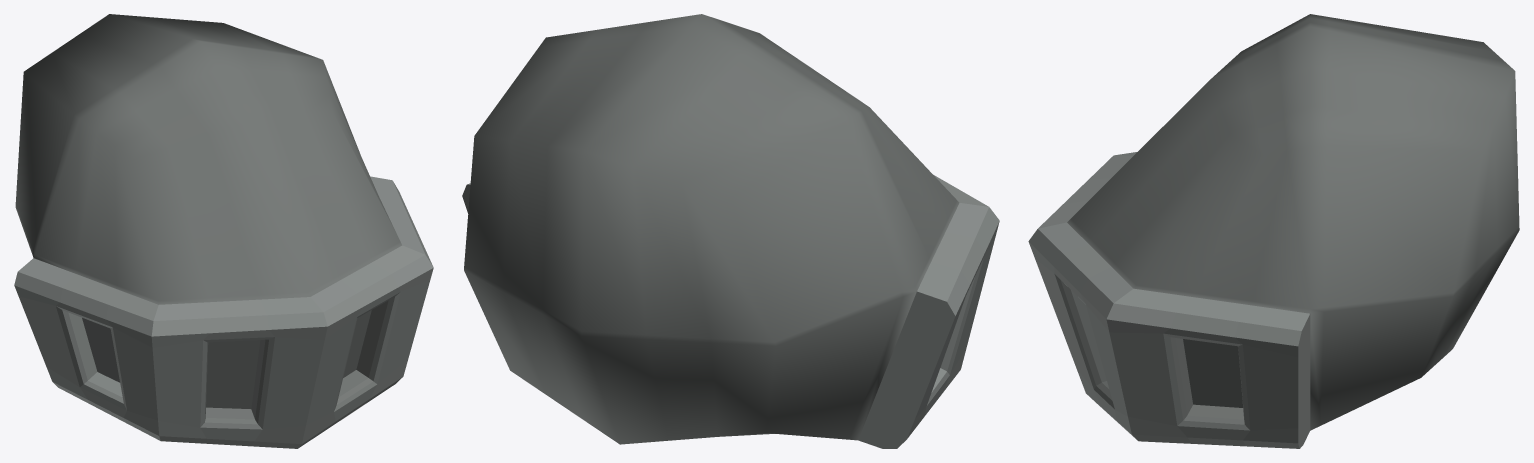
File: helm.fbx
3 views of the same model, side by side, from view 1: azimuth 30°, elevation 25°; view 2: azimuth 150°, elevation 25°; view 3: azimuth 270°, elevation 25° (orthographic). The views are drawn at different scales.
Parts seen in each view (by area): view 1: Helm; view 2: Helm; view 3: Helm.
Boxes of the visible parts, x1,y1,x2,y2 form: Helm: [14, 14, 433, 448]; Helm: [462, 14, 999, 448]; Helm: [1028, 14, 1519, 448].
Size of the model in its own units: 150 by 126 by 148.
